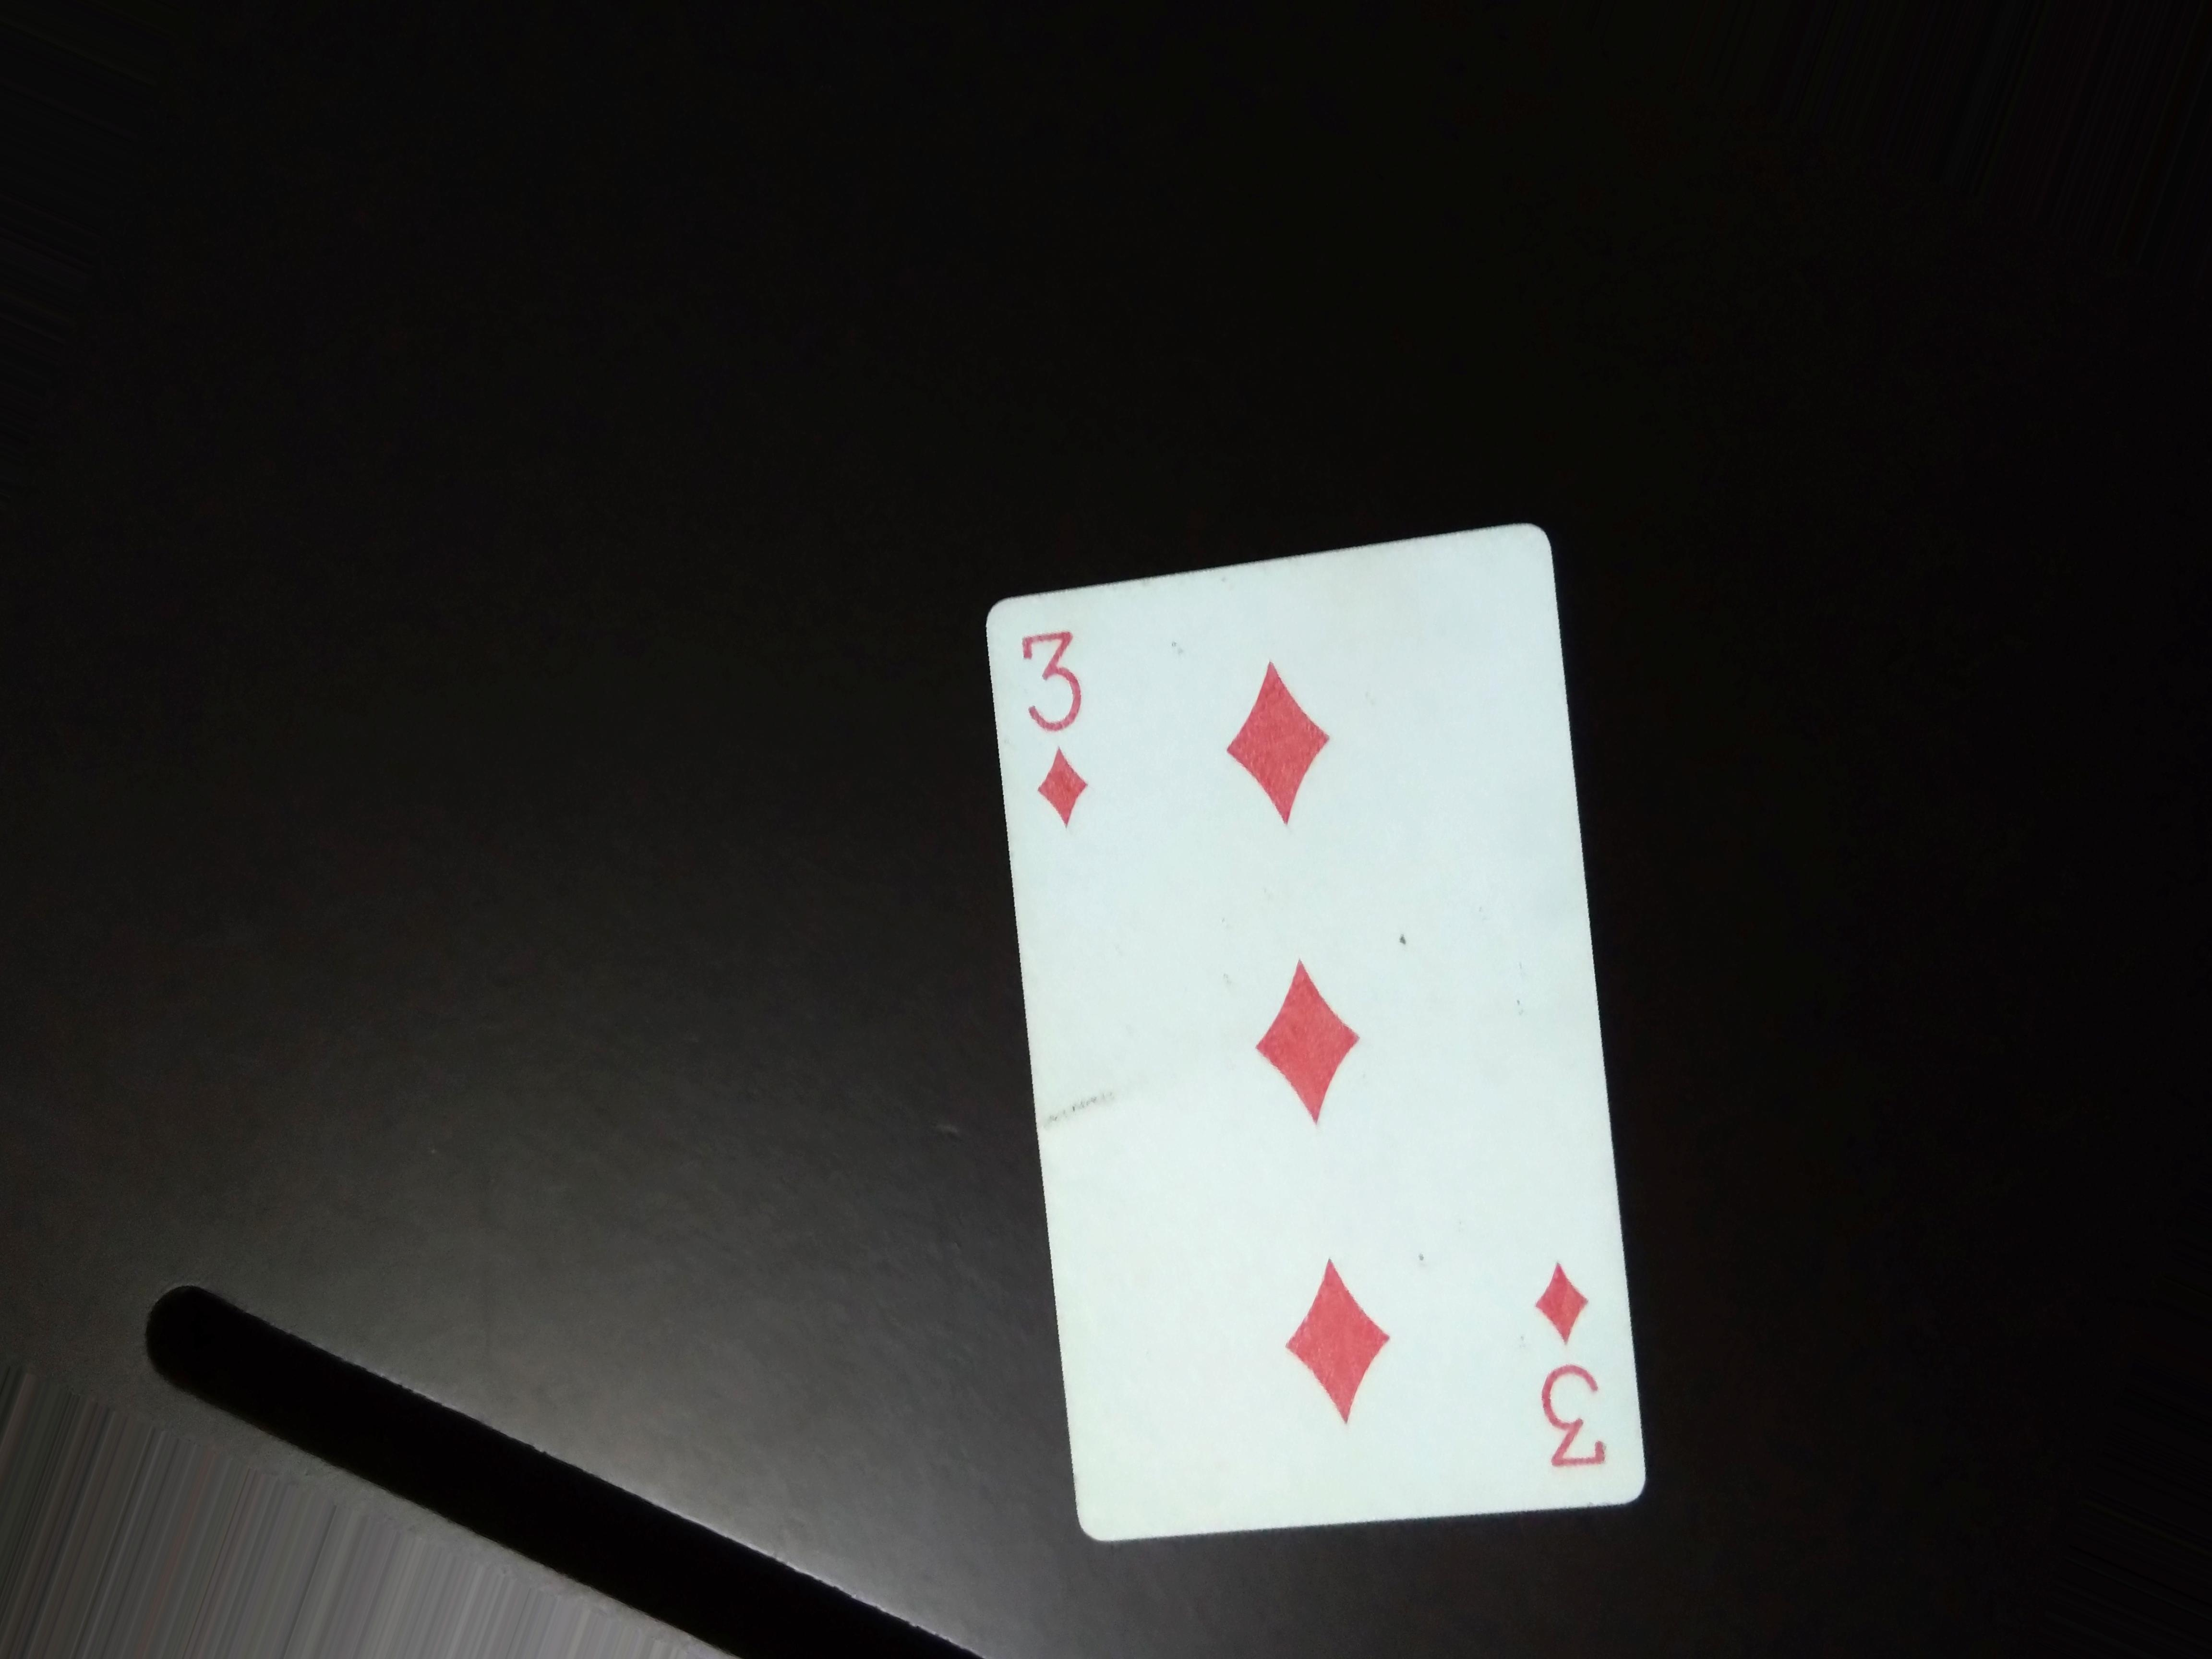3D: (1500, 1249, 1656, 1506)
